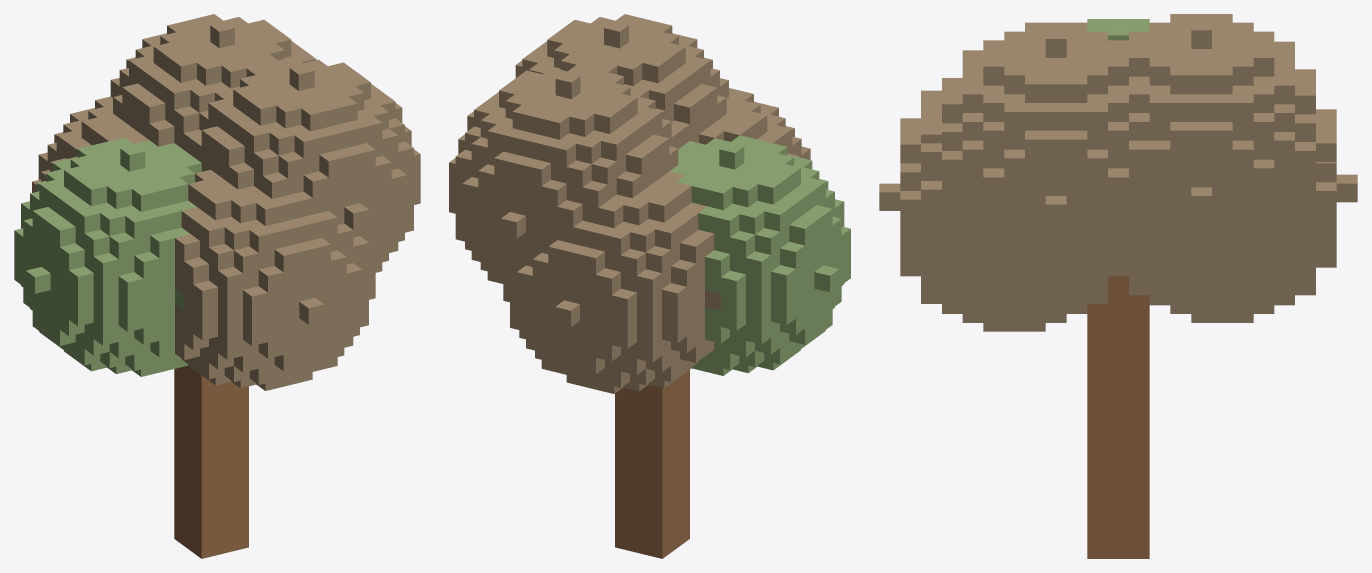
The model's file is architecture-08.glb.
3 views of the same model, side by side, from view 1: azimuth 30°, elevation 25°; view 2: azimuth 150°, elevation 25°; view 3: azimuth 270°, elevation 25° (orthographic). The views are drawn at different scales.
Parts seen in each view (by area): view 1: Model tree; view 2: Model tree; view 3: Model tree.
Boxes of the visible parts, left/top/right/bottom form: Model tree: left=14, top=14, right=420, bottom=558; Model tree: left=449, top=14, right=850, bottom=558; Model tree: left=879, top=14, right=1357, bottom=558.
Size of the model in its own units: 1.76 by 2.32 by 1.84.
